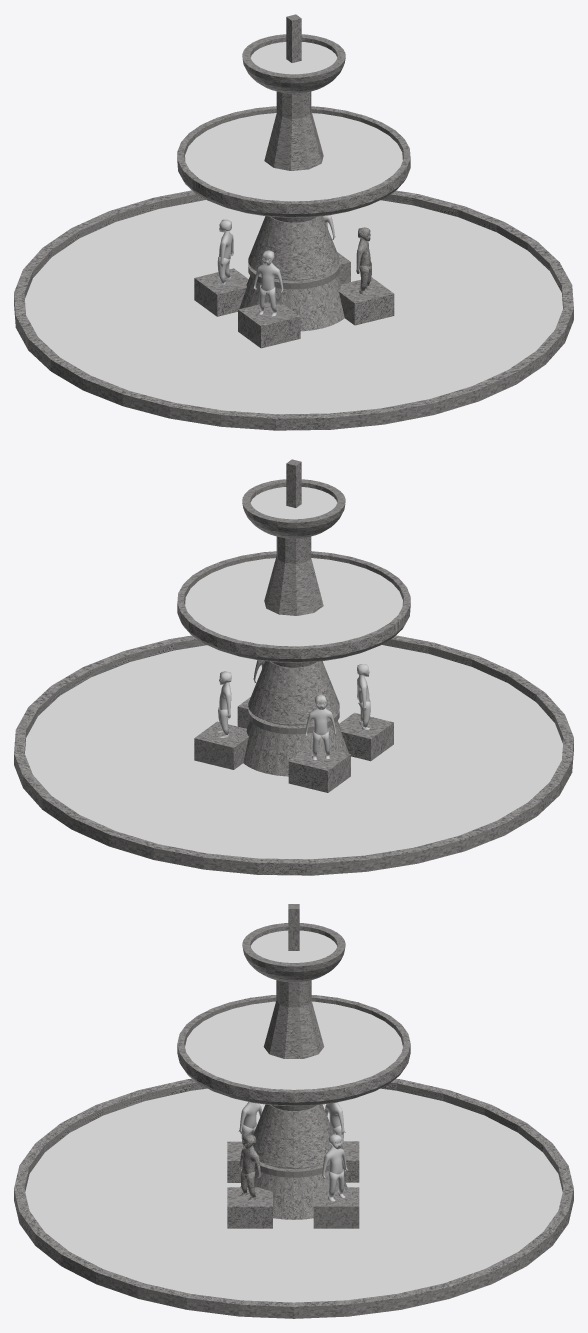
Rendered from fontein.fbx.
3 renders of one model, top to bottom at view 1: azimuth 30°, elevation 25°; view 2: azimuth 150°, elevation 25°; view 3: azimuth 270°, elevation 25°, orthographic.
Visible parts, largest first — view 1: Cylinder.009, Cylinder, Cylinder.010, Sphere, Cylinder.004, Cylinder.001, Sphere.001, Cylinder.007, Cube, Cube.001, Cylinder.011, Cube.003 (+6 smaller); view 2: Cylinder.009, Cylinder, Cylinder.010, Sphere, Cylinder.004, Cylinder.001, Sphere.001, Cylinder.007, Cube.003, Cube.002, Cylinder.011, Cube (+6 smaller); view 3: Cylinder.009, Cylinder, Cylinder.010, Sphere, Cylinder.004, Sphere.001, Cylinder.007, Cylinder.001, Cylinder.011, Cube.002, Cube.001, character.001 (+7 smaller).
Boxes of the visible parts, x1,y1,x2,y2 form: Cylinder.009: [25, 200, 562, 414]; Cylinder: [14, 190, 573, 430]; Cylinder.010: [185, 113, 402, 201]; Sphere: [177, 106, 410, 217]; Cylinder.004: [248, 216, 339, 279]; Cylinder.001: [239, 276, 344, 331]; Sphere.001: [242, 34, 345, 93]; Cylinder.007: [264, 111, 323, 170]; Cube: [238, 302, 300, 348]; Cube.001: [339, 277, 394, 325]; Cylinder.011: [250, 42, 337, 74]; Cube.003: [194, 268, 248, 316]; Cylinder.009: [25, 645, 562, 859]; Cylinder: [14, 635, 573, 875]; Cylinder.010: [185, 558, 402, 646]; Sphere: [177, 551, 410, 662]; Cylinder.004: [248, 661, 339, 724]; Cylinder.001: [243, 721, 348, 776]; Sphere.001: [242, 479, 345, 538]; Cylinder.007: [264, 556, 323, 615]; Cube.003: [288, 747, 350, 792]; Cube.002: [194, 721, 248, 769]; Cylinder.011: [250, 487, 337, 519]; Cube: [339, 712, 393, 761]; Cylinder.009: [25, 1088, 562, 1302]; Cylinder: [14, 1078, 573, 1318]; Cylinder.010: [185, 1001, 402, 1089]; Sphere: [177, 995, 410, 1106]; Cylinder.004: [253, 1104, 334, 1167]; Sphere.001: [242, 923, 345, 982]; Cylinder.007: [263, 1000, 324, 1058]; Cylinder.001: [240, 1168, 347, 1219]; Cylinder.011: [251, 930, 336, 962]; Cube.002: [313, 1187, 359, 1228]; Cube.001: [227, 1187, 272, 1228]; character.001: [322, 1134, 347, 1201].
Size of the model in its own units: 1649 by 1003 by 1649.
